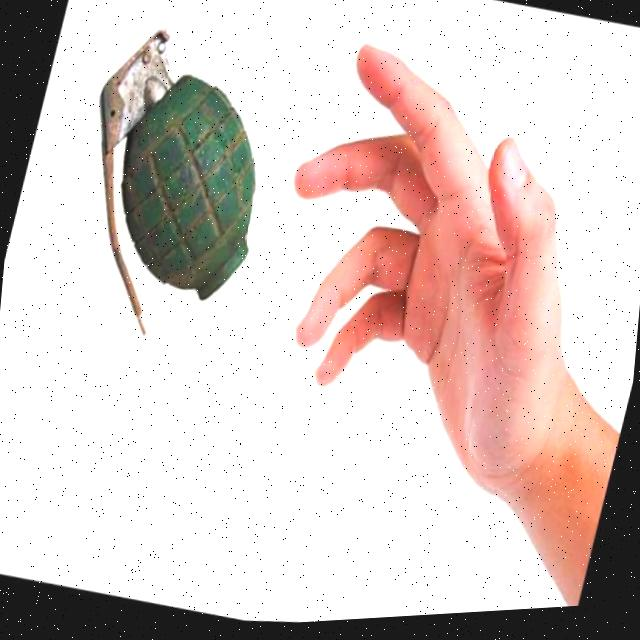grenade: (40, 10, 308, 380)
